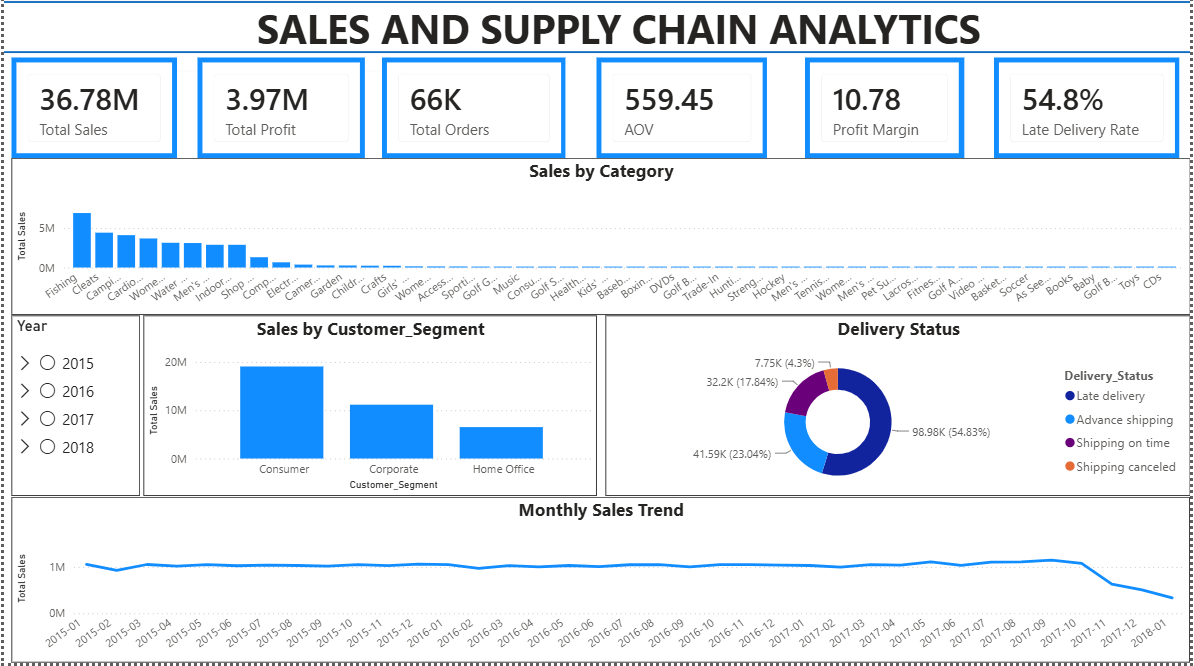

Layout of this report page (visuals, bound fields, positions):
{"tool":"powerbi","page":{"name":"Page 1","canvas":[1280,720],"ordinal":0},"visuals":[{"type":"cardVisual","fields":{"Data":["DataCo_cleaned.Total Sales","DataCo_cleaned.Total Profit"]},"box":[13,63.6,432.5,131.2],"z":0},{"type":"clusteredColumnChart","fields":{"Y":["DataCo_cleaned.AOV"]},"box":[1.3,442.9,300,150],"z":1000},{"type":"textbox","box":[0,0,1280.5,67.5],"z":2000},{"type":"textbox","box":[0,435,300,154],"z":3000},{"type":"shape","box":[0,53.2,1280.5,14.3],"z":4000},{"type":"shape","box":[0,0,1280.5,13],"z":5000},{"type":"cardVisual","fields":{"Data":["DataCo_cleaned.Total Profit"]},"box":[208.8,66.7,180.7,108.8],"z":6000},{"type":"cardVisual","fields":{"Data":["DataCo_cleaned.Total Sales"]},"box":[8.8,66.7,178.9,108.8],"z":7000},{"type":"cardVisual","fields":{"Data":["DataCo_cleaned.Total Orders"]},"box":[408.8,66.7,198.2,108.8],"z":8000},{"type":"cardVisual","fields":{"Data":["DataCo_cleaned.AOV"]},"box":[640.4,66.7,184.2,108.8],"z":9000},{"type":"cardVisual","fields":{"Data":["DataCo_cleaned.Profit Margin"]},"box":[864.9,66.7,171.9,108.8],"z":10000},{"type":"cardVisual","fields":{"Data":["DataCo_cleaned.Late Delivery Rate"]},"box":[1068.4,66.7,200,108.8],"z":11000},{"type":"clusteredColumnChart","title":"Sales by Category","fields":{"Category":["DataCo_cleaned.Category_Name"],"Y":["DataCo_cleaned.Total Sales"]},"box":[8.7,175.4,1272.5,169.6],"z":12000},{"type":"clusteredColumnChart","title":" Sales by Customer_Segment","fields":{"Category":["DataCo_cleaned.Customer_Segment"],"Y":["DataCo_cleaned.Total Sales"]},"box":[150.9,345.6,489.5,194.7],"z":13000},{"type":"lineChart","title":"Monthly Sales Trend","fields":{"Category":["DataCo_cleaned.Month_Year"],"Y":["DataCo_cleaned.Total Sales"]},"box":[8.8,540.4,1271.9,178.9],"z":14000},{"type":"donutChart","title":"Delivery Status","fields":{"Category":["DataCo_cleaned.Delivery_Status"],"Y":["CountNonNull(DataCo_cleaned.Order_Id)"]},"box":[649.1,345.6,631.6,194.7],"z":15000},{"type":"listSlicer","fields":{"Values":["DataCo_cleaned.order_date_DateOrders.Variation.Date Hierarchy.Year","DataCo_cleaned.order_date_DateOrders.Variation.Date Hierarchy.Quarter","DataCo_cleaned.order_date_DateOrders.Variation.Date Hierarchy.Month","DataCo_cleaned.order_date_DateOrders.Variation.Date Hierarchy.Day"]},"box":[8.8,345.6,138.6,194.7],"z":16000}]}

Visuals, with their boxes in screenshot pixels (x1, y1, x2, y2), scaled from the page's 1280x720 canvas onto the 1194x666 screenshot:
cardVisual - DataCo_cleaned.Total Sales x DataCo_cleaned.Total Profit: 12/59/416/180
clusteredColumnChart - DataCo_cleaned.AOV: 1/410/281/548
textbox: 0/0/1193/62
textbox: 0/402/280/545
shape: 0/49/1193/62
shape: 0/0/1193/12
cardVisual - DataCo_cleaned.Total Profit: 195/62/363/162
cardVisual - DataCo_cleaned.Total Sales: 8/62/175/162
cardVisual - DataCo_cleaned.Total Orders: 381/62/566/162
cardVisual - DataCo_cleaned.AOV: 597/62/769/162
cardVisual - DataCo_cleaned.Profit Margin: 807/62/967/162
cardVisual - DataCo_cleaned.Late Delivery Rate: 997/62/1183/162
"Sales by Category" clusteredColumnChart: 8/162/1193/319
" Sales by Customer_Segment" clusteredColumnChart: 141/320/597/500
"Monthly Sales Trend" lineChart: 8/500/1193/665
"Delivery Status" donutChart: 605/320/1193/500
listSlicer - DataCo_cleaned.order_date_DateOrders.Variation.Date Hierarchy.Year x DataCo_cleaned.order_date_DateOrders.Variation.Date Hierarchy.Quarter: 8/320/137/500
